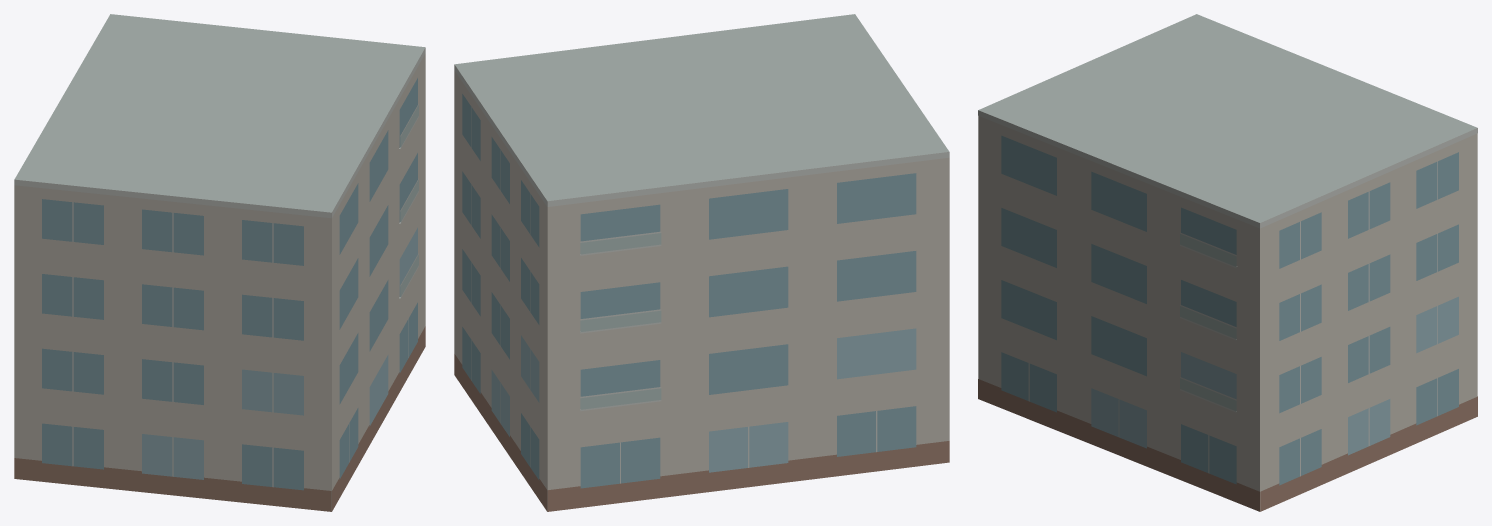
The model's file is survey-upis-32600371.glb.
The picture shows the model from 3 angles, left to right: view 1: azimuth 30°, elevation 25°; view 2: azimuth 150°, elevation 25°; view 3: azimuth 270°, elevation 25°; orthographic projection. The views are drawn at different scales.
Visible parts, largest first — view 1: survey-upis-32600371.tmp; view 2: survey-upis-32600371.tmp; view 3: survey-upis-32600371.tmp.
Boxes of the visible parts, x1=… form: survey-upis-32600371.tmp: x1=14, y1=14, x2=425, y2=511; survey-upis-32600371.tmp: x1=454, y1=14, x2=949, y2=511; survey-upis-32600371.tmp: x1=978, y1=14, x2=1477, y2=511.
Size of the model in its own units: 20.12 by 12.95 by 20.31.
